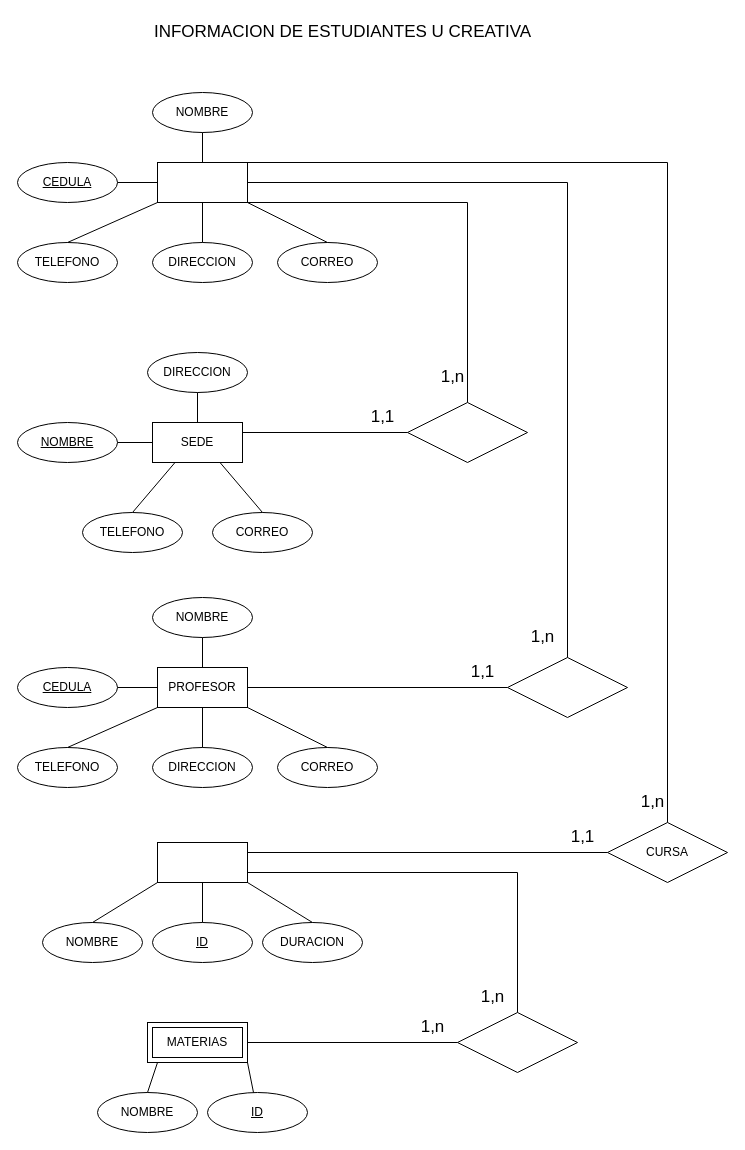
The diagram is 745 pixels wide and 1150 high, and some of its shapes have lost their labels. The shapes that lost their labels are listed below. From the top down, each one's centre as x and y in pixels, then its label:
At [202,182]: "ESTUDIANTE".
At [467,432]: "ASISTE".
At [567,687]: "TIENE".
At [202,862]: "CURSOS".
At [517,1042]: "INCLUYE".
